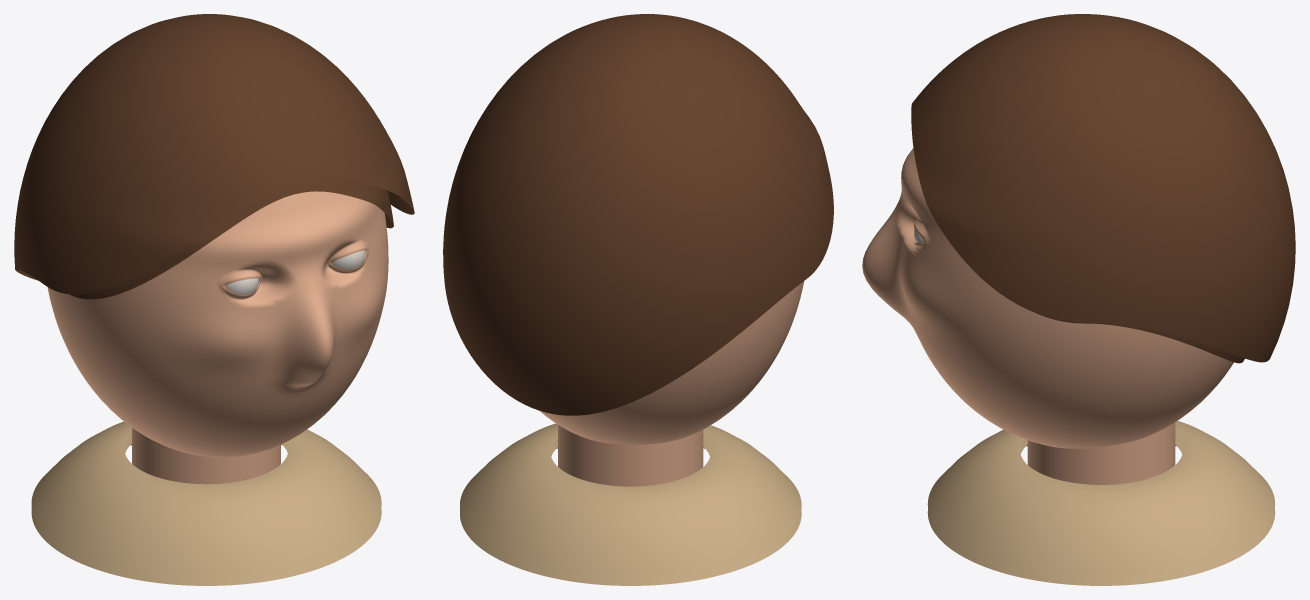
File: char-head.glb
3 renders of one model, left to right at view 1: azimuth 30°, elevation 25°; view 2: azimuth 150°, elevation 25°; view 3: azimuth 270°, elevation 25°, orthographic. The views are drawn at different scales.
Visible parts, largest first — view 1: hair, head, collar, eyes; view 2: hair, collar, head; view 3: hair, head, collar.
Boxes of the visible parts, box(x1,y1,x2,y2) form: hair: box(14, 14, 414, 299); head: box(47, 191, 388, 484); collar: box(31, 421, 381, 585); eyes: box(226, 250, 365, 294); hair: box(443, 14, 833, 415); collar: box(460, 423, 801, 585); head: box(539, 281, 804, 486); hair: box(911, 14, 1295, 363); head: box(862, 148, 1233, 484); collar: box(927, 421, 1275, 585).
Size of the model in its own units: 0.2119 by 0.299 by 0.2346.
